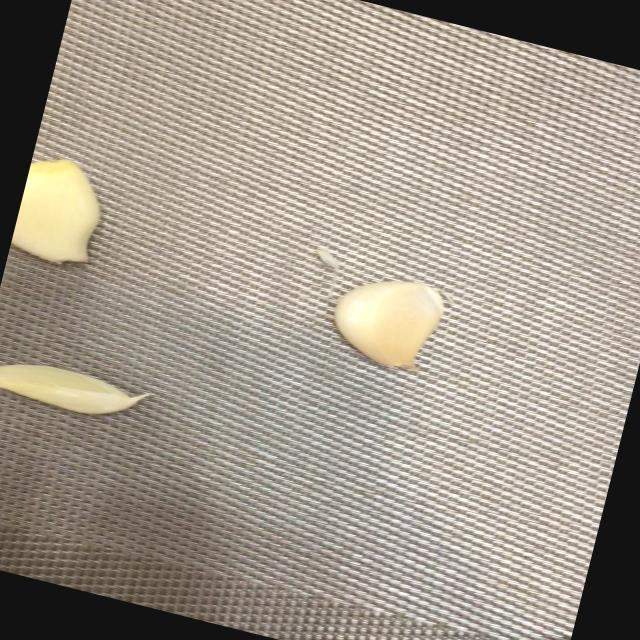bawang: (320, 261, 451, 379), (7, 148, 118, 274), (0, 345, 151, 430)
